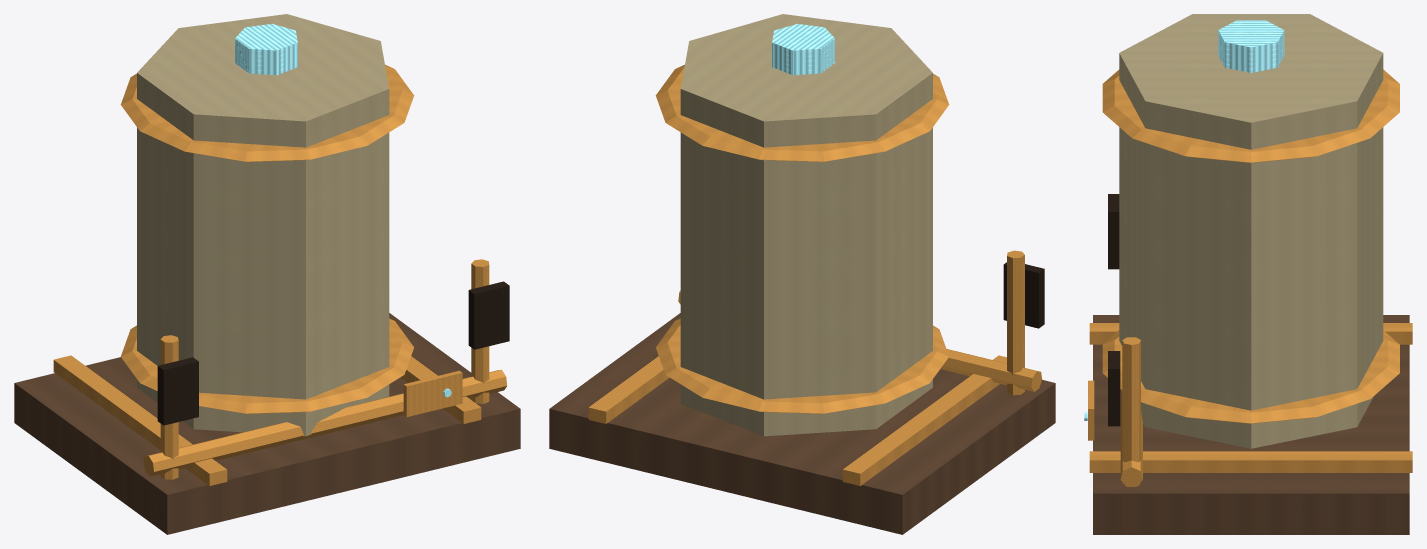
Rendered from atlas100-s012-a04.lod1.glb.
3 renders of one model, left to right at view 1: azimuth 30°, elevation 25°; view 2: azimuth 150°, elevation 25°; view 3: azimuth 270°, elevation 25°, orthographic. The views are drawn at different scales.
Visible parts, largest first — view 1: atlas100-s012-a04:part-003, atlas100-s012-a04:part-000, atlas100-s012-a04:part-005, atlas100-s012-a04:part-011, atlas100-s012-a04:part-004, atlas100-s012-a04:part-001, atlas100-s012-a04:part-006, atlas100-s012-a04:part-010, atlas100-s012-a04:part-008, atlas100-s012-a04:part-012, atlas100-s012-a04:part-007, atlas100-s012-a04:part-009 (+1 smaller); view 2: atlas100-s012-a04:part-003, atlas100-s012-a04:part-000, atlas100-s012-a04:part-005, atlas100-s012-a04:part-004, atlas100-s012-a04:part-001, atlas100-s012-a04:part-006, atlas100-s012-a04:part-007, atlas100-s012-a04:part-002, atlas100-s012-a04:part-011, atlas100-s012-a04:part-008; view 3: atlas100-s012-a04:part-003, atlas100-s012-a04:part-000, atlas100-s012-a04:part-005, atlas100-s012-a04:part-002, atlas100-s012-a04:part-004, atlas100-s012-a04:part-006, atlas100-s012-a04:part-009, atlas100-s012-a04:part-001, atlas100-s012-a04:part-010, atlas100-s012-a04:part-008, atlas100-s012-a04:part-011, atlas100-s012-a04:part-012.
Part boxes in pixels (left/top/right/bottom): atlas100-s012-a04:part-003: left=137, top=14, right=389, bottom=436; atlas100-s012-a04:part-000: left=14, top=313, right=520, bottom=534; atlas100-s012-a04:part-005: left=120, top=64, right=414, bottom=161; atlas100-s012-a04:part-011: left=143, top=369, right=507, bottom=476; atlas100-s012-a04:part-004: left=120, top=318, right=413, bottom=413; atlas100-s012-a04:part-001: left=53, top=355, right=227, bottom=485; atlas100-s012-a04:part-006: left=235, top=23, right=297, bottom=75; atlas100-s012-a04:part-010: left=468, top=281, right=509, bottom=349; atlas100-s012-a04:part-008: left=157, top=357, right=198, bottom=425; atlas100-s012-a04:part-012: left=403, top=370, right=462, bottom=417; atlas100-s012-a04:part-007: left=160, top=335, right=178, bottom=479; atlas100-s012-a04:part-009: left=471, top=259, right=489, bottom=403; atlas100-s012-a04:part-003: left=680, top=14, right=932, bottom=436; atlas100-s012-a04:part-000: left=549, top=313, right=1055, bottom=534; atlas100-s012-a04:part-005: left=655, top=64, right=949, bottom=161; atlas100-s012-a04:part-004: left=656, top=318, right=949, bottom=413; atlas100-s012-a04:part-001: left=842, top=355, right=1006, bottom=485; atlas100-s012-a04:part-006: left=772, top=23, right=834, bottom=75; atlas100-s012-a04:part-007: left=1007, top=250, right=1024, bottom=395; atlas100-s012-a04:part-002: left=588, top=356, right=669, bottom=423; atlas100-s012-a04:part-011: left=678, top=290, right=1042, bottom=391; atlas100-s012-a04:part-008: left=1003, top=262, right=1044, bottom=328; atlas100-s012-a04:part-003: left=1119, top=14, right=1383, bottom=448; atlas100-s012-a04:part-000: left=1093, top=315, right=1409, bottom=534; atlas100-s012-a04:part-005: left=1102, top=69, right=1399, bottom=162; atlas100-s012-a04:part-002: left=1089, top=451, right=1412, bottom=472; atlas100-s012-a04:part-004: left=1102, top=330, right=1399, bottom=423; atlas100-s012-a04:part-006: left=1218, top=20, right=1284, bottom=72; atlas100-s012-a04:part-009: left=1122, top=337, right=1140, bottom=485; atlas100-s012-a04:part-001: left=1089, top=323, right=1412, bottom=344; atlas100-s012-a04:part-010: left=1108, top=351, right=1120, bottom=426; atlas100-s012-a04:part-008: left=1108, top=194, right=1119, bottom=269; atlas100-s012-a04:part-011: left=1120, top=389, right=1142, bottom=486; atlas100-s012-a04:part-012: left=1088, top=380, right=1094, bottom=440.
Bounding box in the file's own units: 2.4 × 2.59 × 1.87.
Materials: 5 (5 with a texture image).
